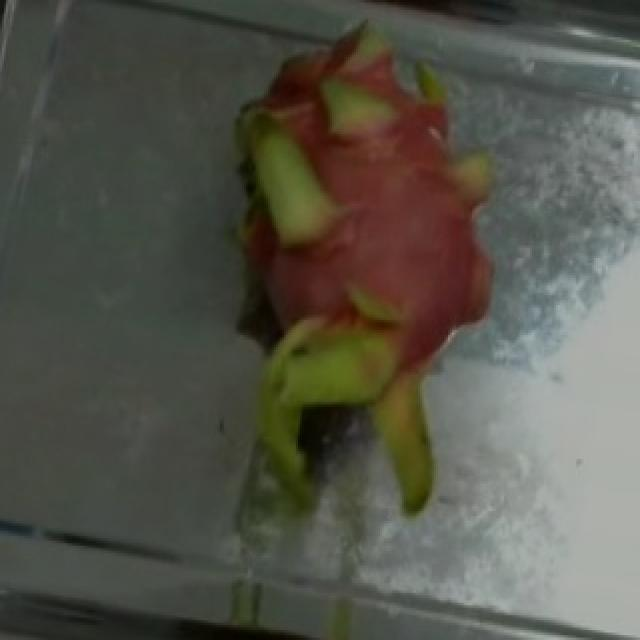fruit: (144, 5, 532, 424)
